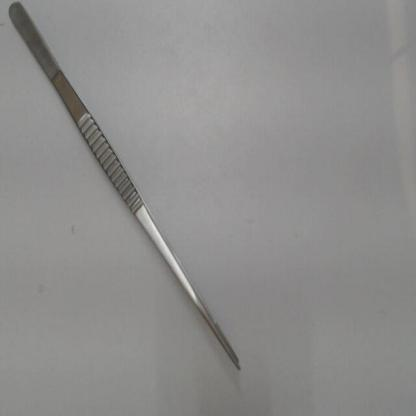DeBakey Dissector: (1, 5, 252, 401)
